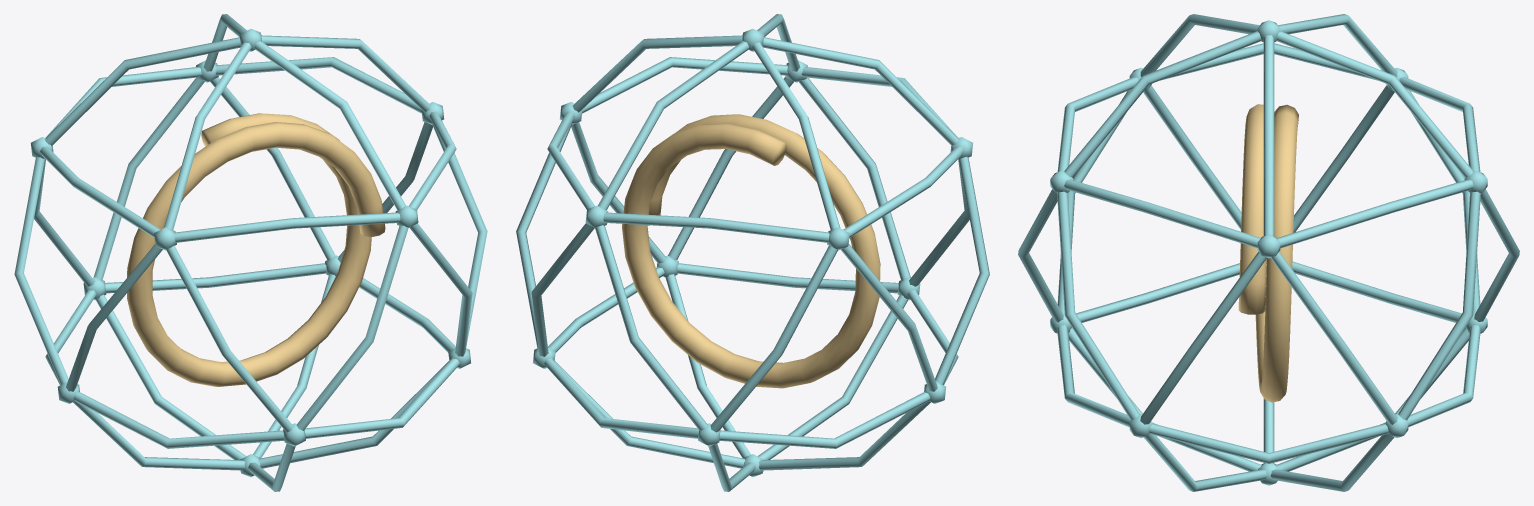
File: clathrin_cage.glb
3 renders of one model, left to right at view 1: azimuth 30°, elevation 25°; view 2: azimuth 150°, elevation 25°; view 3: azimuth 270°, elevation 25°, orthographic. The views are drawn at different scales.
Parts seen in each view (by area): view 1: Clathrin_Struts, Dynamin_Collar, Clathrin_Hubs; view 2: Clathrin_Struts, Dynamin_Collar, Clathrin_Hubs; view 3: Clathrin_Struts, Dynamin_Collar, Clathrin_Hubs.
Boxes of the visible parts, x1,y1,x2,y2 form: Clathrin_Struts: (14,14,487,491); Dynamin_Collar: (127,113,385,386); Clathrin_Hubs: (31,28,470,477); Clathrin_Struts: (516,14,989,491); Dynamin_Collar: (622,114,880,388); Clathrin_Hubs: (533,28,972,477); Clathrin_Struts: (1018,14,1519,491); Dynamin_Collar: (1238,104,1298,402); Clathrin_Hubs: (1050,20,1487,485).
Size of the model in its own units: 3.93 by 4.22 by 4.12.
